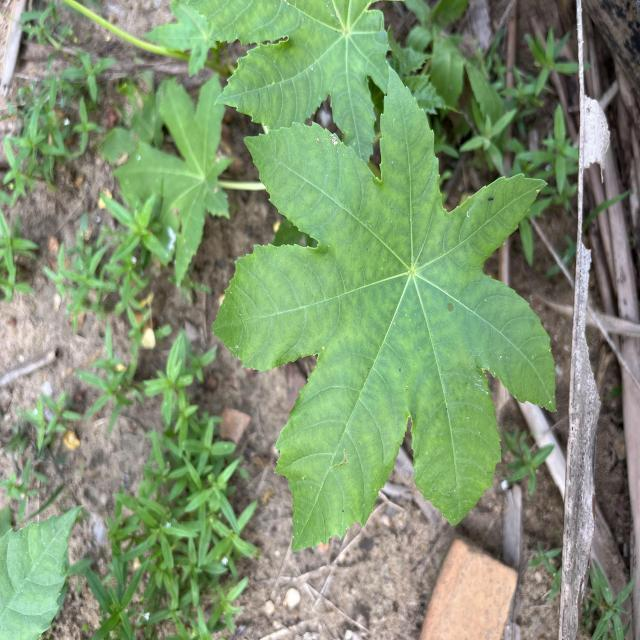Ricinus communis linn: (206, 58, 560, 561)
